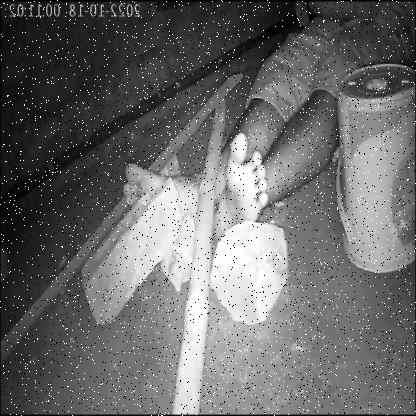leg: (212, 122, 303, 250), (117, 140, 214, 225)
